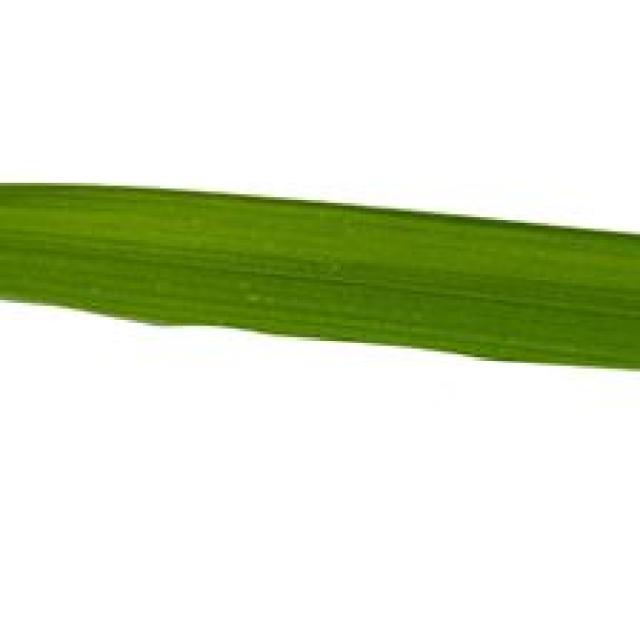Rice___Healthy_Rice_Plant: (0, 181, 637, 372)
